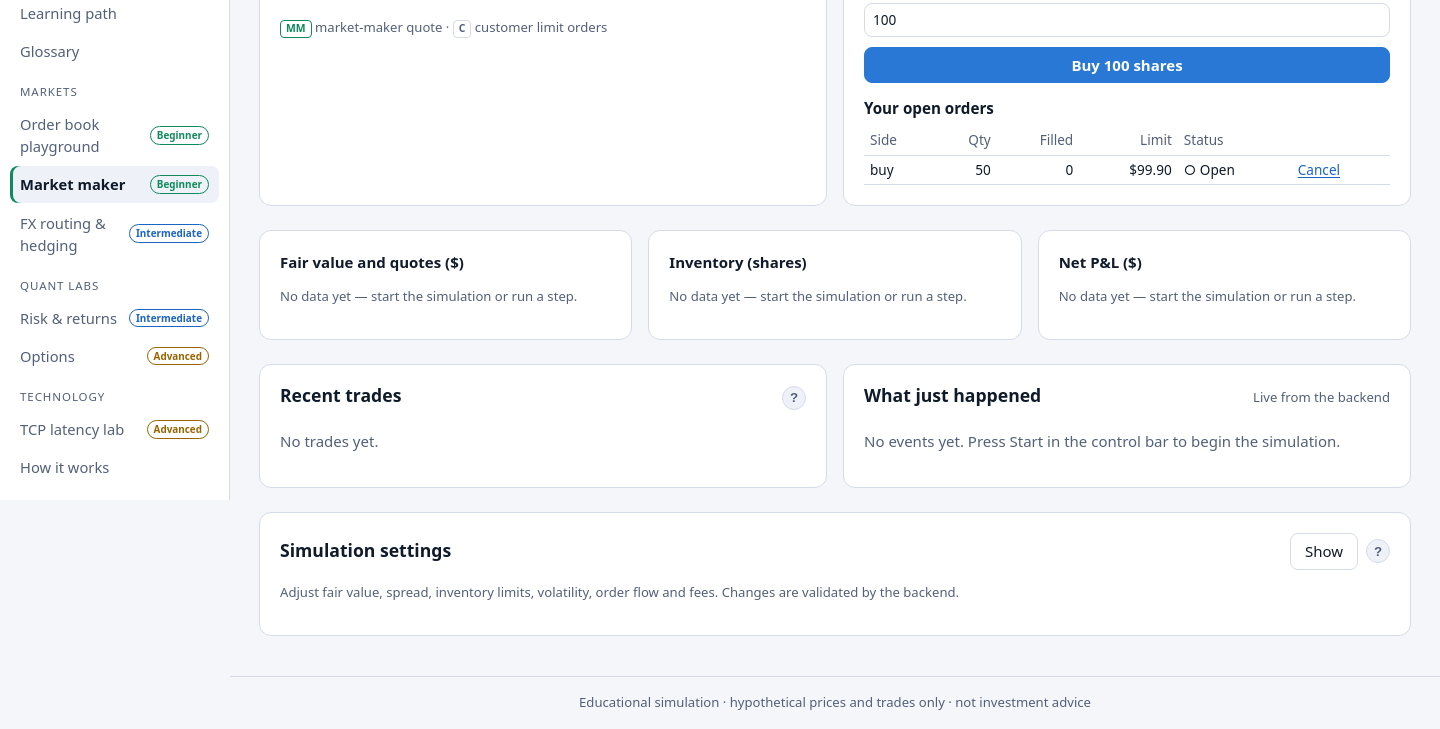
Test: Market maker page › shows validation details when settings are rejected
The width and height of the screenshot is (1440, 729).
(page scrolled)
What coordinates should you click on to do the following:
click the button "Show"
I would click on:
 (1324, 551)
Its box is [1290,533,1358,570].
(page scrolled)
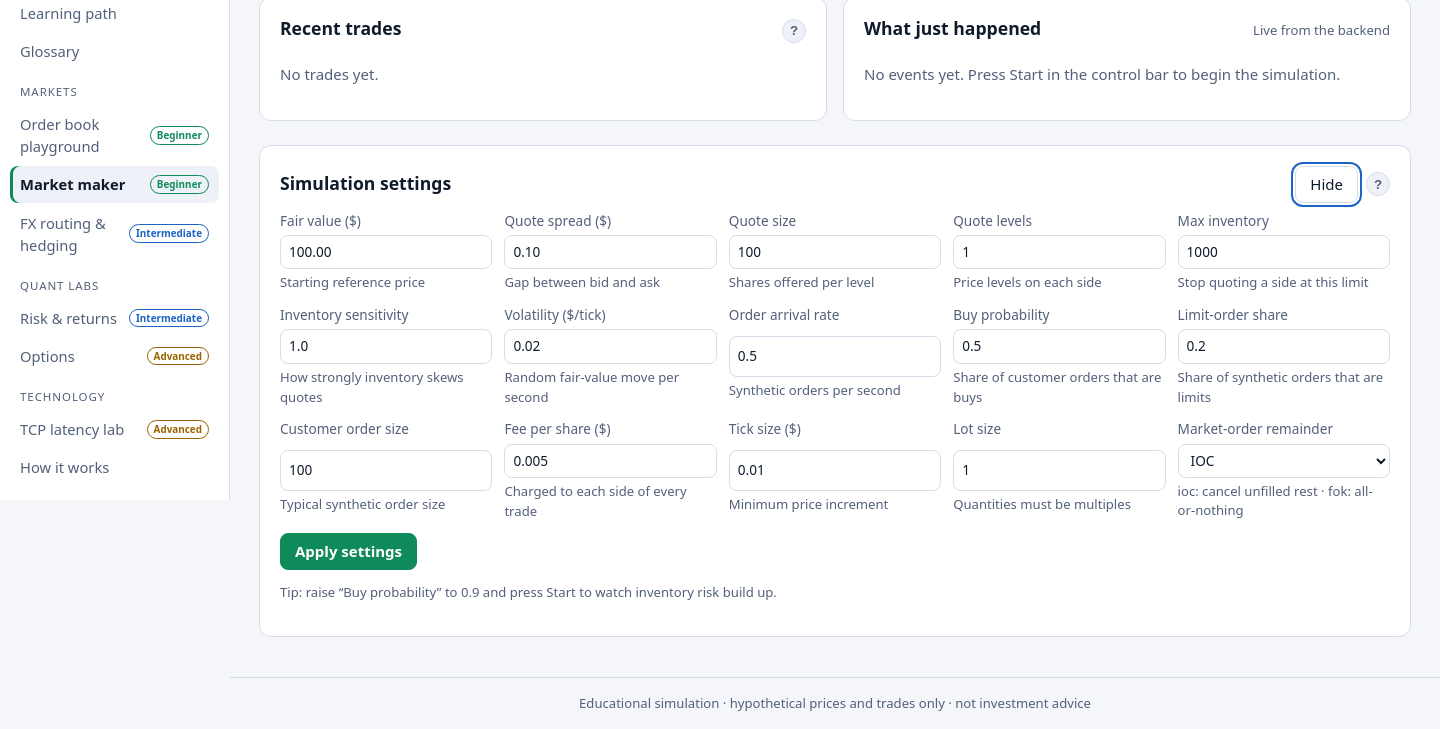
What coordinates should you click on to do the following:
click the button "Apply settings"
I would click on:
 (349, 552)
Its box is [280,533,417,570].
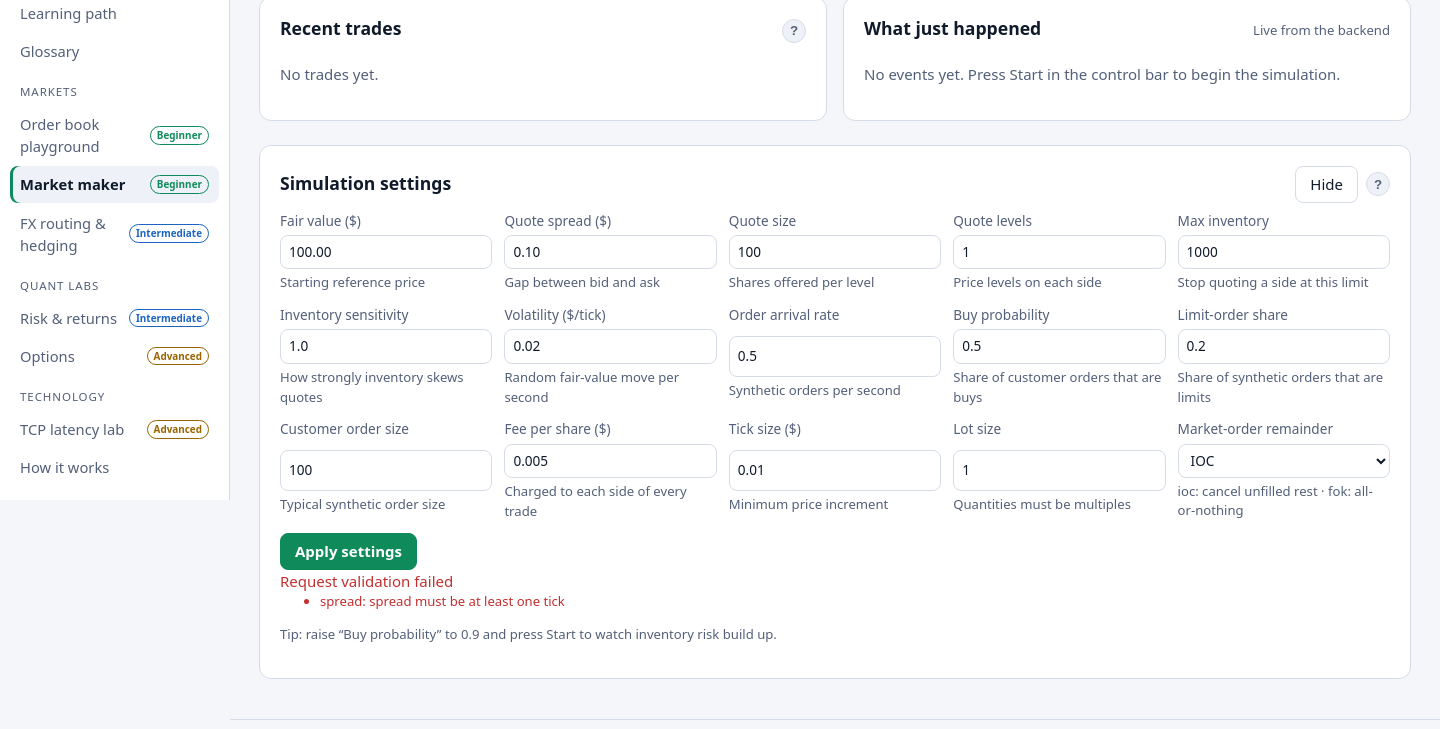
Expected: the list item "spread: spread must be at least one tick" is shown, [320,592,565,610]
